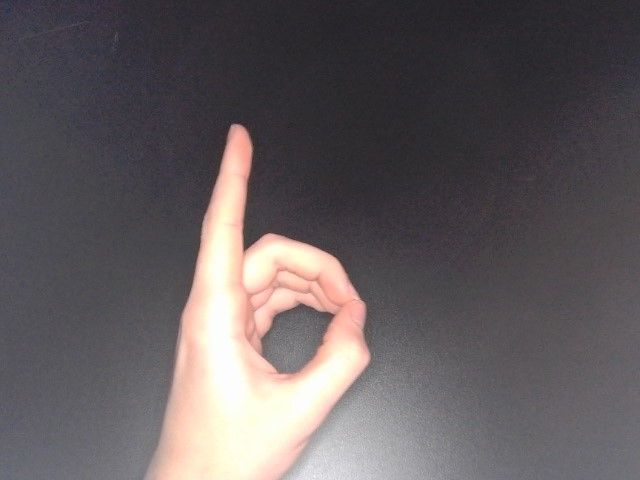d: (146, 117, 379, 480)
